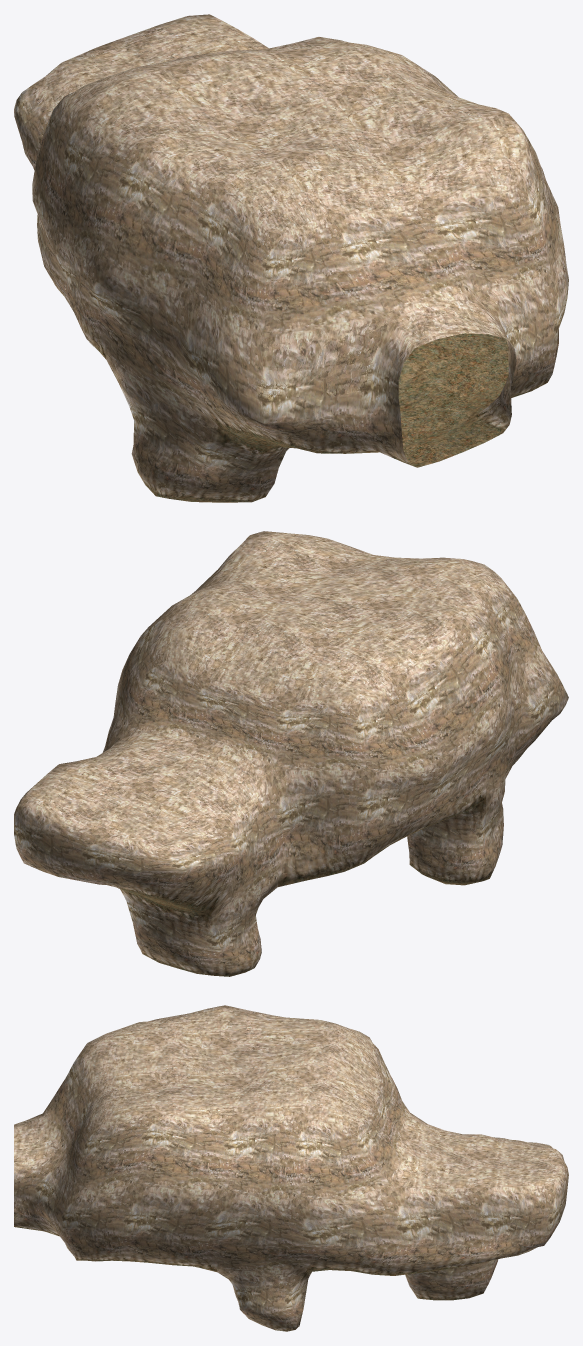
The model's file is thm_all_cave_s01_mirror_r7_mesh_r7.fbx.
3 renders of one model, top to bottom at view 1: azimuth 30°, elevation 25°; view 2: azimuth 150°, elevation 25°; view 3: azimuth 270°, elevation 25°, orthographic. The views are drawn at different scales.
Visible parts, largest first — view 1: mesh_node; view 2: mesh_node; view 3: mesh_node.
Part boxes in pixels (x1,y1,x2,y2): mesh_node: (14,14,568,502); mesh_node: (14,531,568,976); mesh_node: (14,1005,568,1331).
Bounding box in the file's own units: 38.19 × 31.19 × 64.55.
